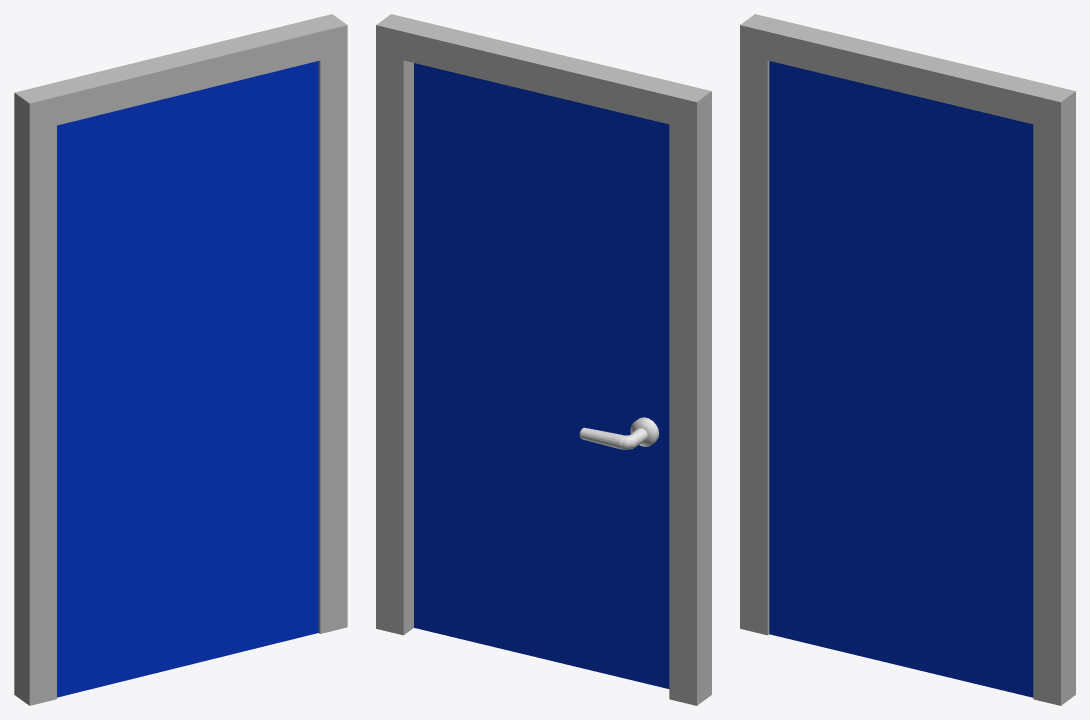
The model's file is puerta 1.FBX.
3 renders of one model, left to right at view 1: azimuth 30°, elevation 25°; view 2: azimuth 150°, elevation 25°; view 3: azimuth 330°, elevation 25°, orthographic.
Visible parts, largest first — view 1: PivotDoor001; view 2: PivotDoor001, Cylinder001; view 3: PivotDoor001.
Boxes of the visible parts, x1,y1,x2,y2 form: PivotDoor001: (14, 14, 347, 705); PivotDoor001: (376, 14, 711, 705); Cylinder001: (579, 417, 658, 449); PivotDoor001: (740, 14, 1075, 705).
Size of the model in its own units: 116 by 210 by 16.4.
